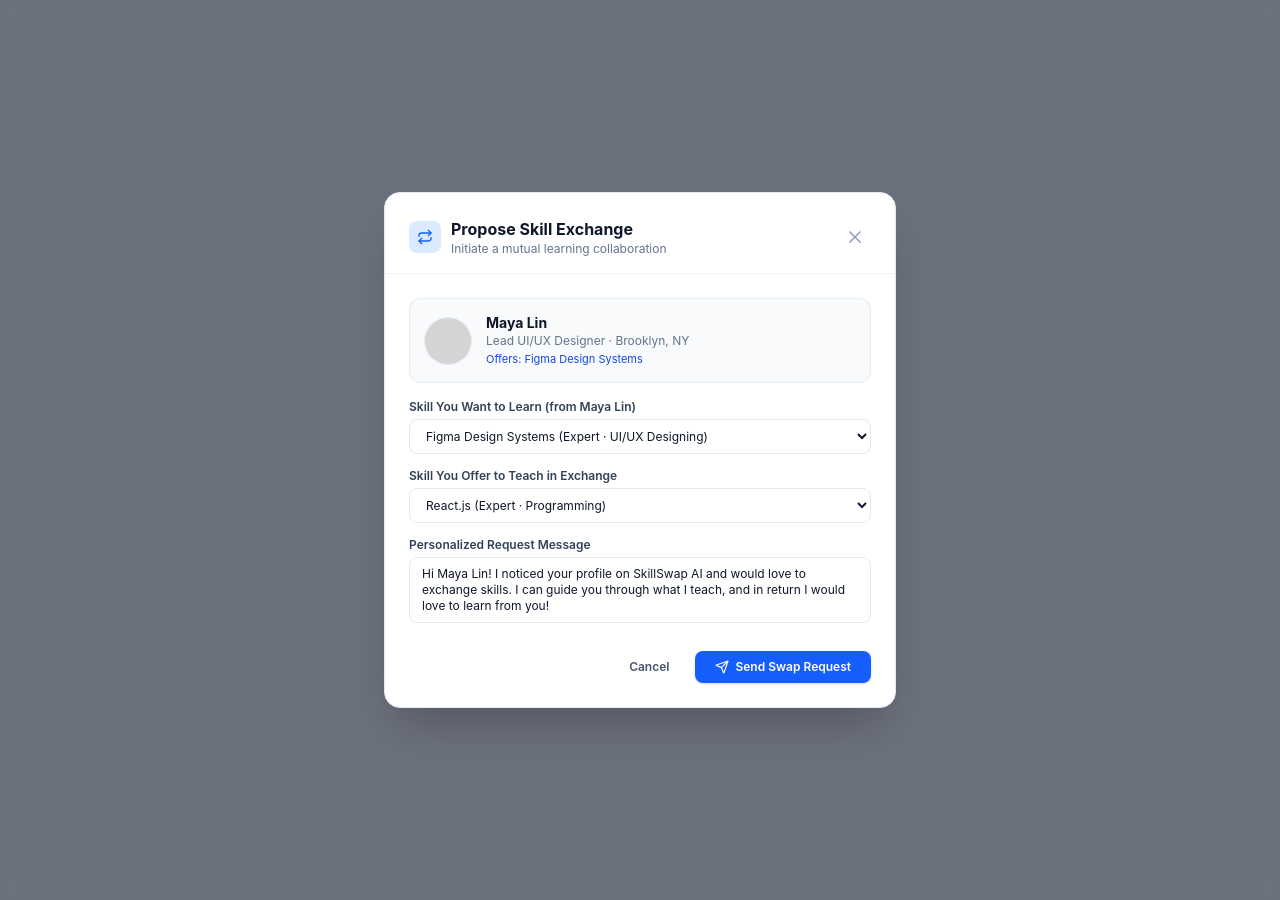
Test: SendSwapModal › submits swap request payload and displays confirmation message
The width and height of the screenshot is (1280, 900).
Click the button "Send Swap Request" at {"x": 783, "y": 667}, box [696,651,871,683]
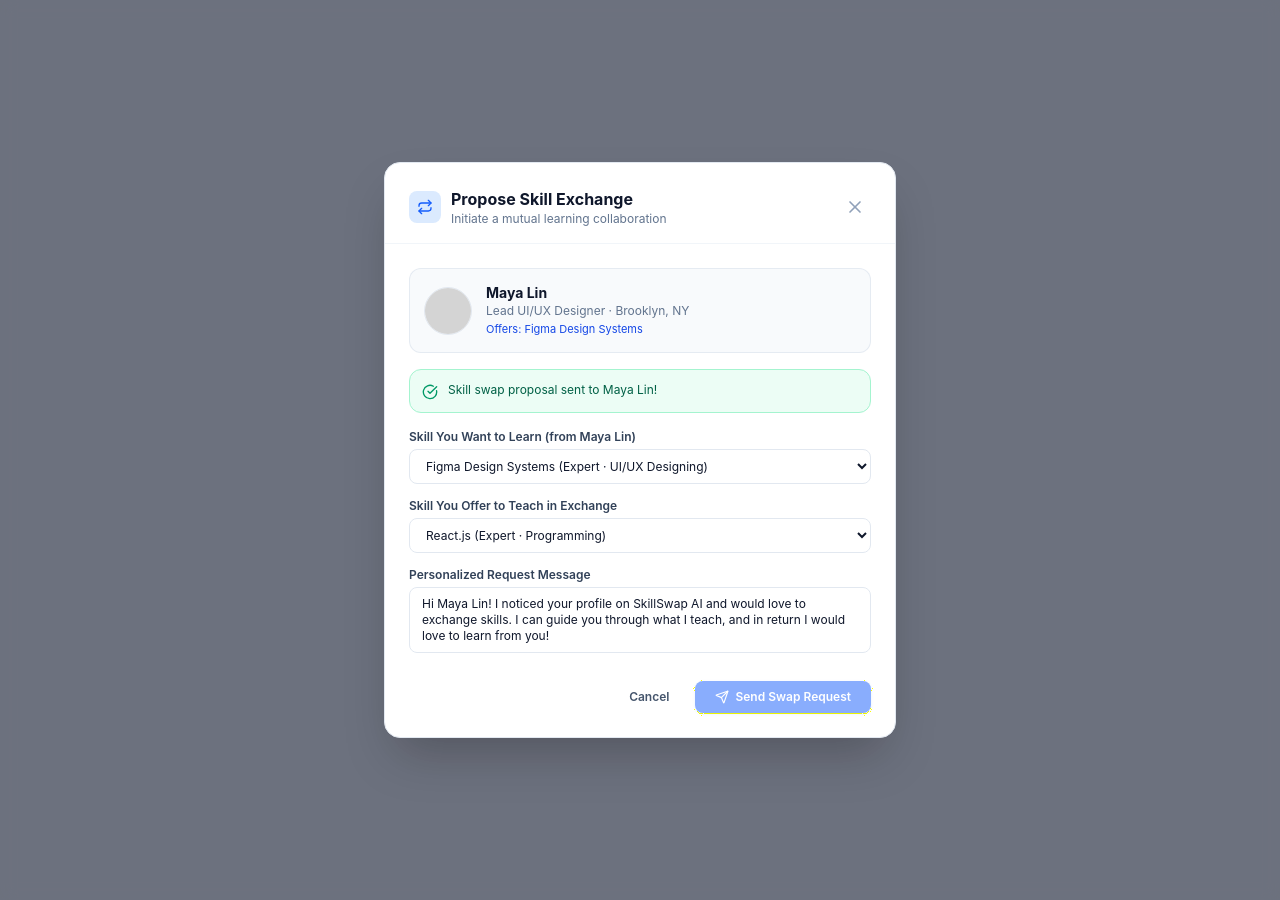
Check: the message reads "Skill swap proposal sent to Maya Lin!", box [448,382,657,397]
